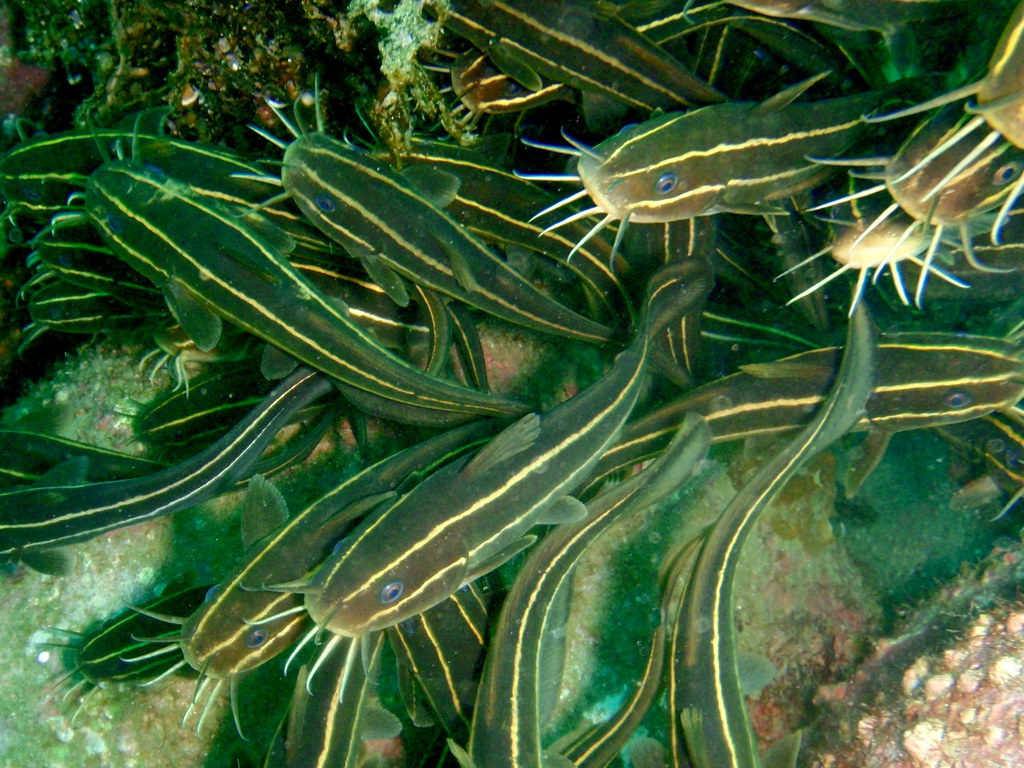gonzui: (564, 86, 897, 226)
